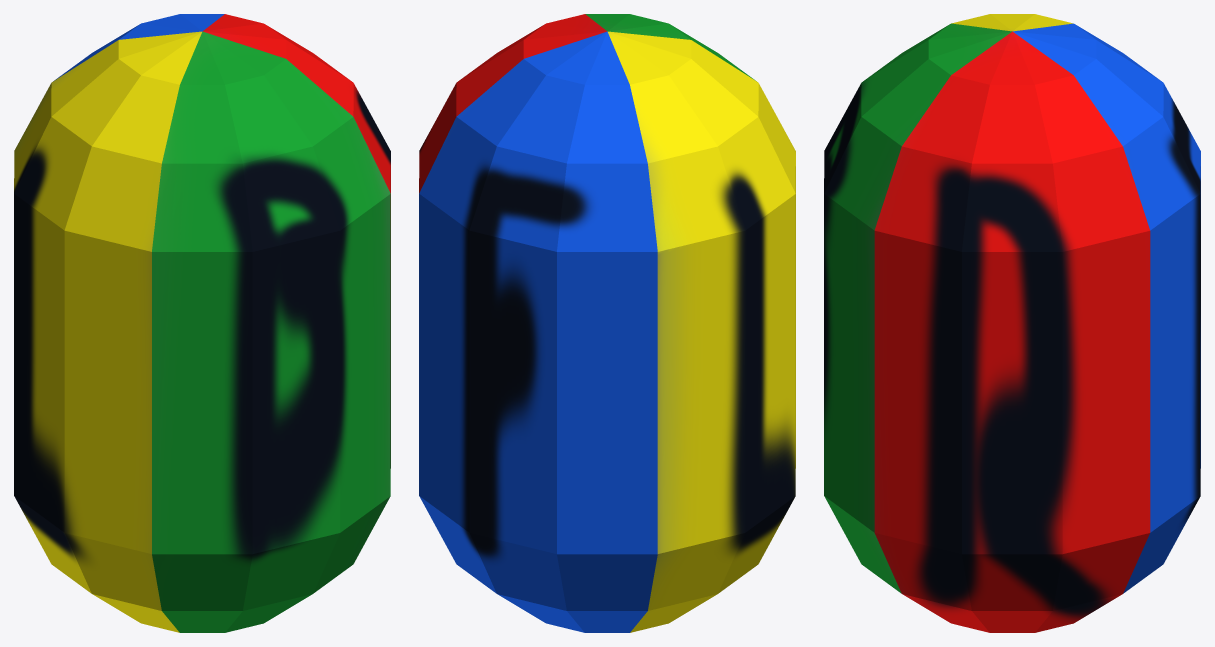
The model's file is youbal.dae.
3 views of the same model, side by side, from view 1: azimuth 30°, elevation 25°; view 2: azimuth 150°, elevation 25°; view 3: azimuth 270°, elevation 25° (orthographic).
Visible parts, largest first — view 1: Sphere; view 2: Sphere; view 3: Sphere.
Boxes of the visible parts, bbox=[...] form: Sphere: bbox=[14, 14, 390, 632]; Sphere: bbox=[419, 14, 795, 632]; Sphere: bbox=[824, 14, 1200, 632].
Bounding box in the file's own units: 1.88 × 1.88 × 3.22.
Materials: 1 (1 with a texture image).
